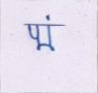anusvara: (46, 15, 51, 20)
